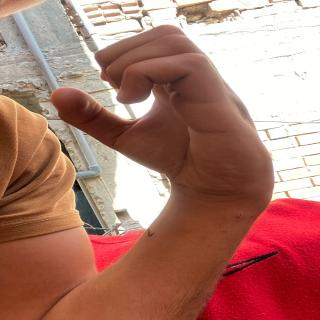JEEM: (46, 19, 286, 192)
